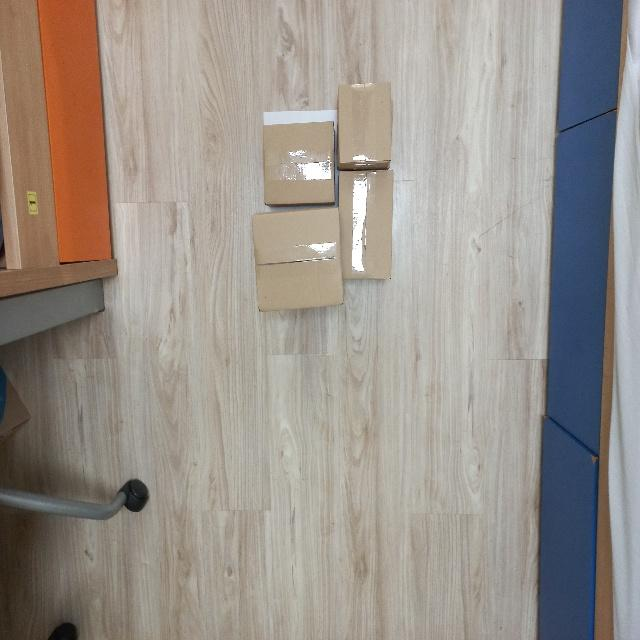box: (248, 206, 348, 316), (260, 118, 338, 210), (336, 167, 396, 281), (334, 79, 396, 171)
